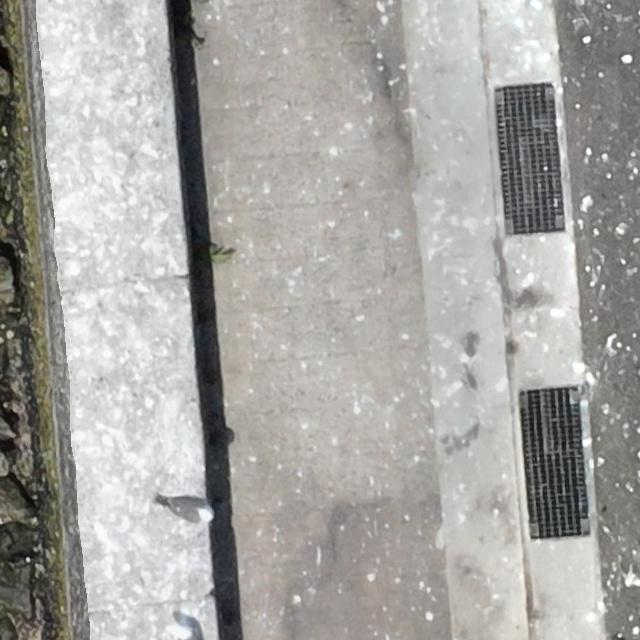umineko: (168, 499, 210, 522)
